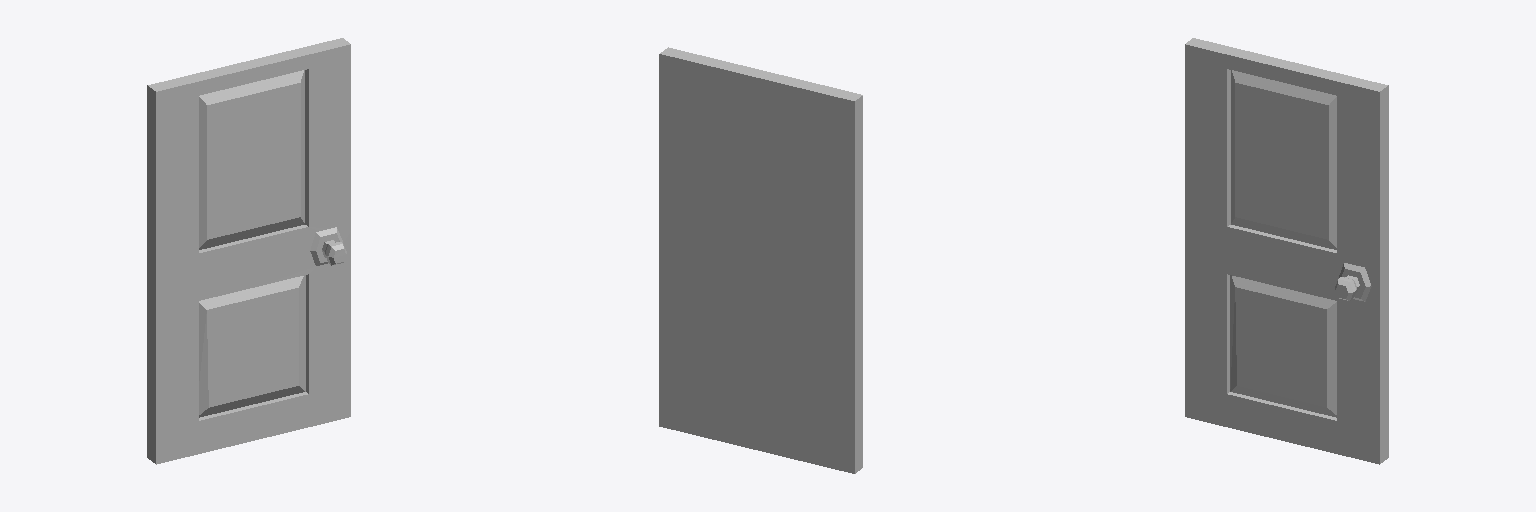
The model's file is Door.obj.
3 renders of one model, left to right at view 1: azimuth 30°, elevation 25°; view 2: azimuth 150°, elevation 25°; view 3: azimuth 330°, elevation 25°, orthographic.
Parts seen in each view (by area): view 1: pCube1; view 2: pCube1; view 3: pCube1.
Part boxes in pixels (x1,y1,x2,y2): pCube1: (147, 38, 350, 464); pCube1: (659, 47, 862, 473); pCube1: (1185, 38, 1388, 464).
Bounding box in the file's own units: 21.39 × 39.04 × 4.16.